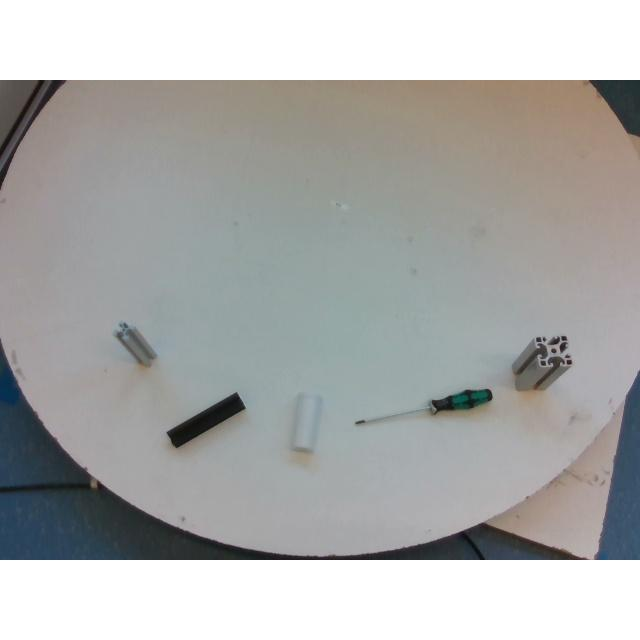F20_20_B: (168, 393, 245, 447)
F20_20_G: (114, 321, 156, 365)
S40_40_G: (512, 336, 572, 390)
Screwdriver: (354, 388, 492, 424)
Spacer: (290, 392, 322, 452)
